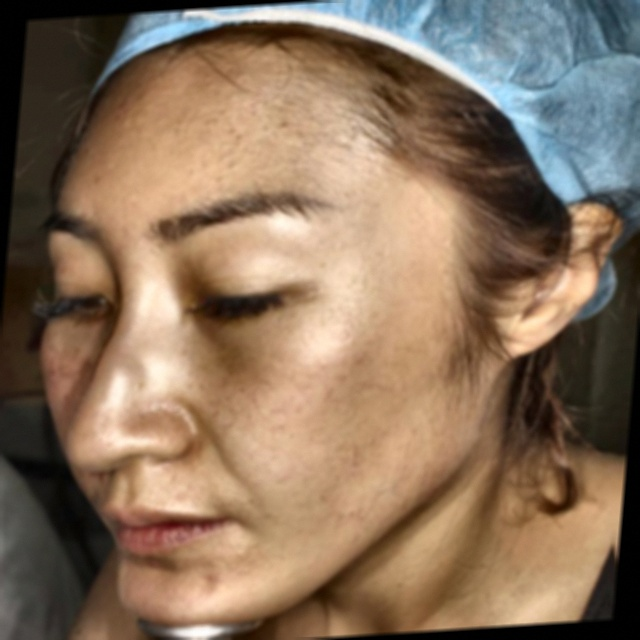comedone: (191, 571, 227, 601)
